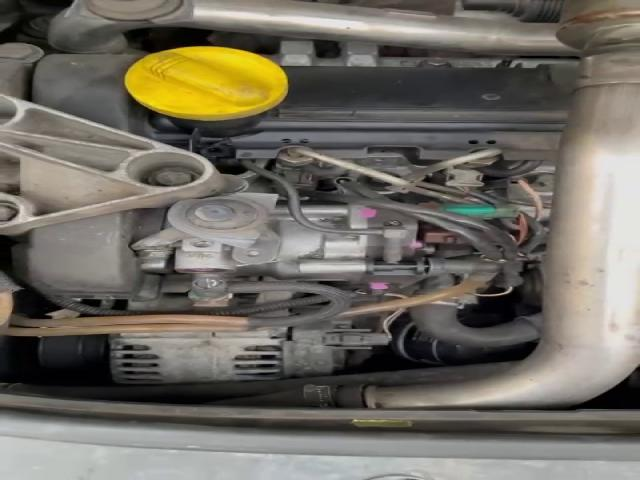alternator: (112, 328, 287, 384)
high_pressure_pump: (132, 192, 448, 294)
